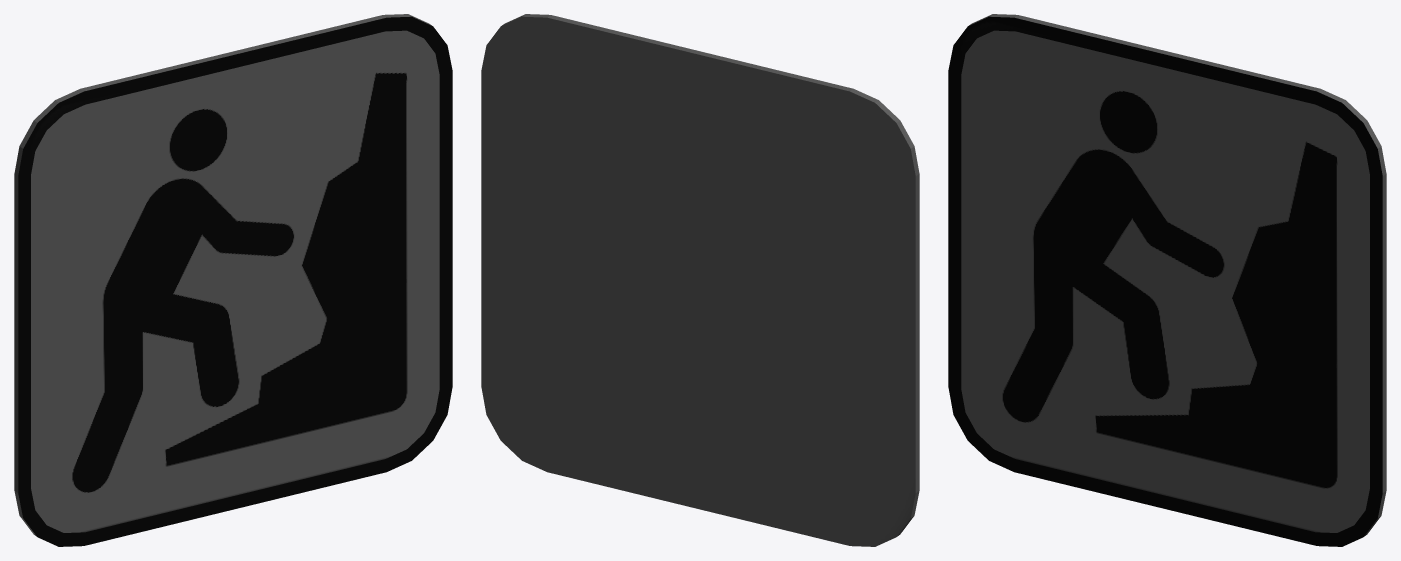
Rendered from Sign_Sign.fbx.
3 views of the same model, side by side, from view 1: azimuth 30°, elevation 25°; view 2: azimuth 150°, elevation 25°; view 3: azimuth 330°, elevation 25° (orthographic).
Parts seen in each view (by area): view 1: Cylinder.023; view 2: Cylinder.023; view 3: Cylinder.023.
Boxes of the visible parts, x1=… form: Cylinder.023: x1=14, y1=14, x2=452, y2=546; Cylinder.023: x1=481, y1=14, x2=919, y2=546; Cylinder.023: x1=948, y1=14, x2=1386, y2=546.
Bounding box in the file's own units: 55.34 × 55.34 × 0.8301.
